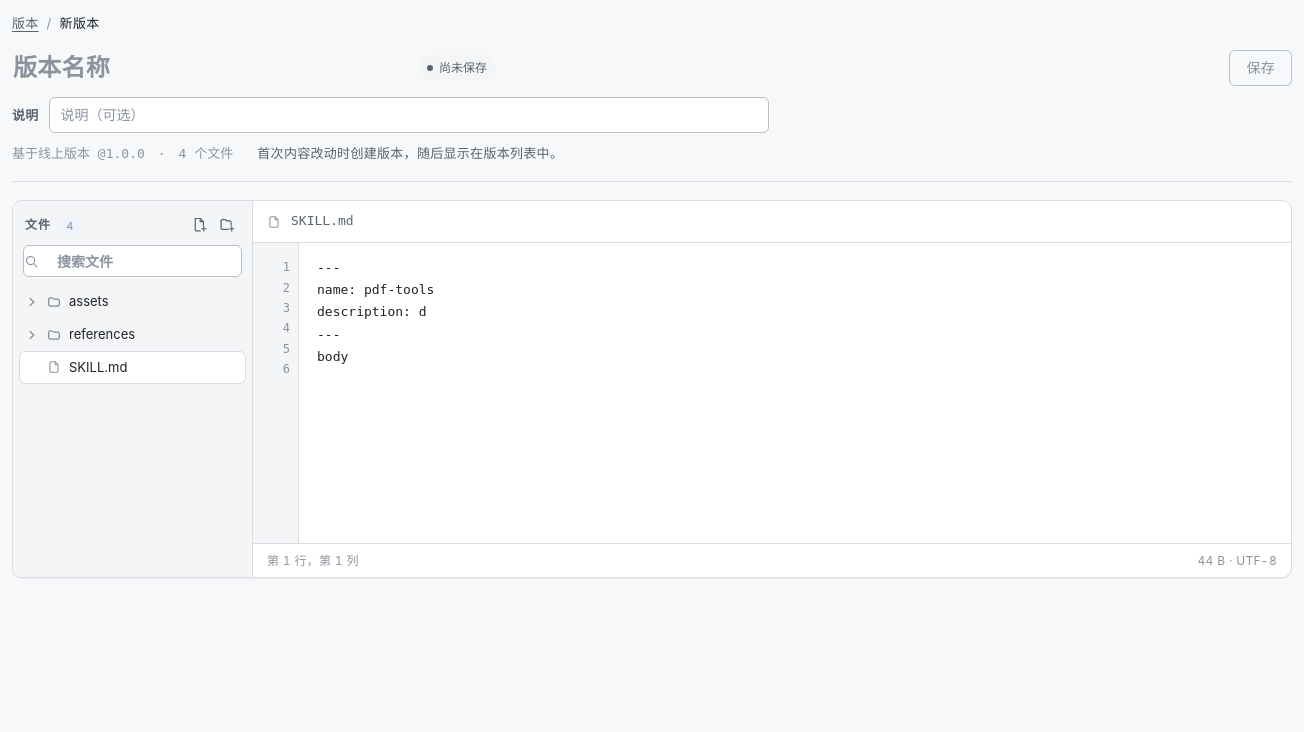
Test case: VersionEditorPage · the new version › refuses to create anything before the name is filled in
Click the button with id "edNewFile": (199, 224) x1=186 y1=212 x2=212 y2=238
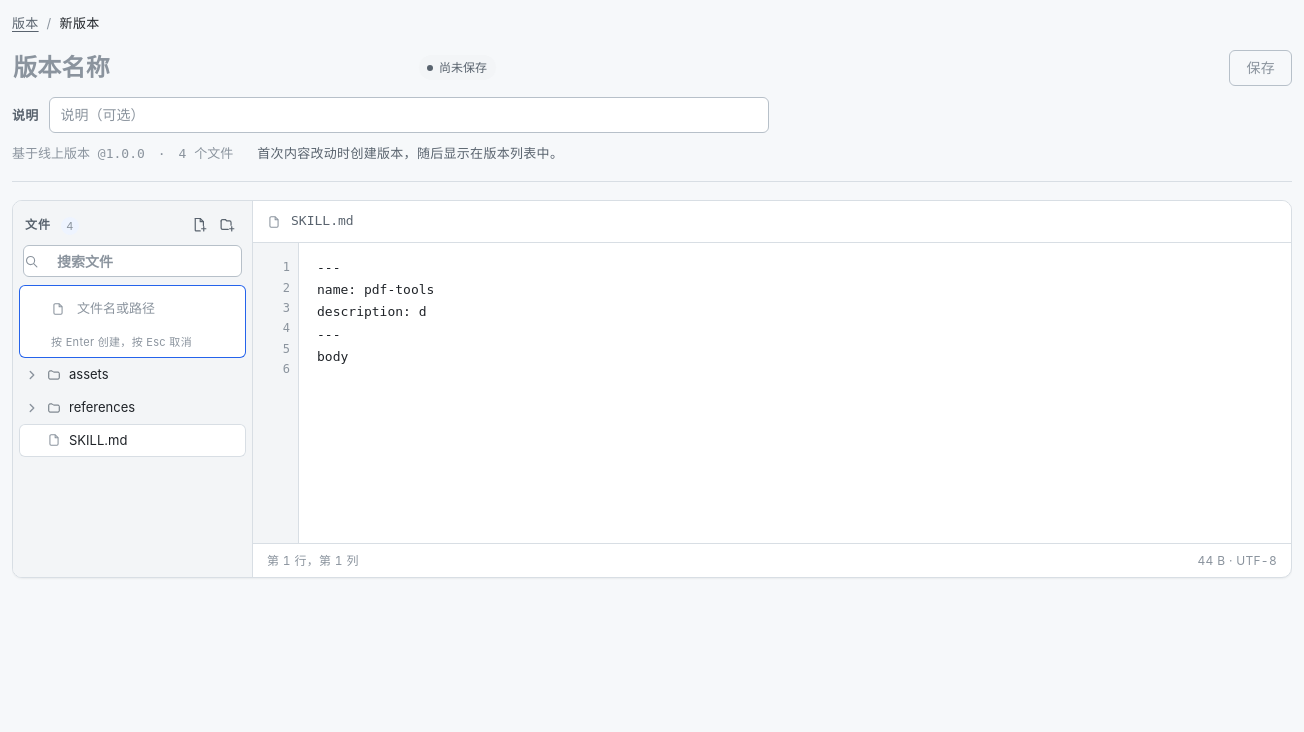
In the field with class "editor-create-input": (154, 309) x1=73 y1=292 x2=234 y2=325, type "references/api.md"
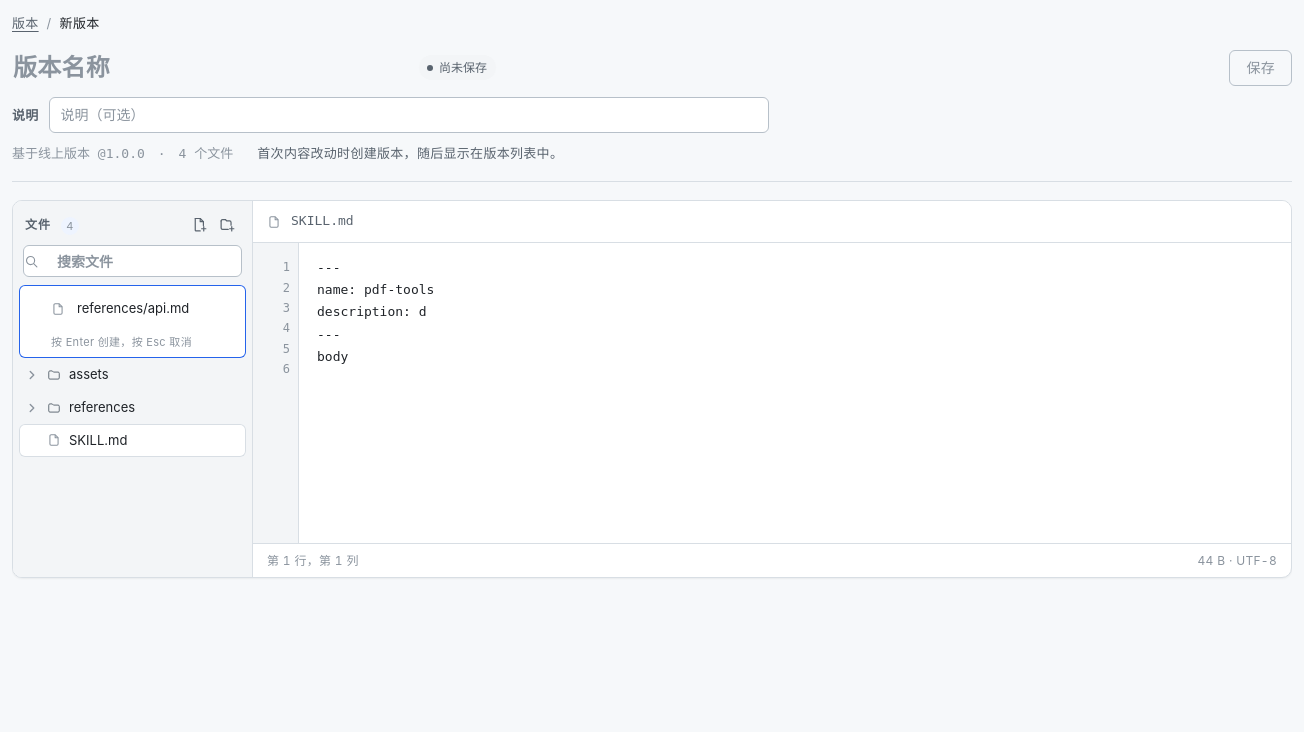
Press Enter in the field with class "editor-create-input", box x1=73 y1=292 x2=234 y2=325
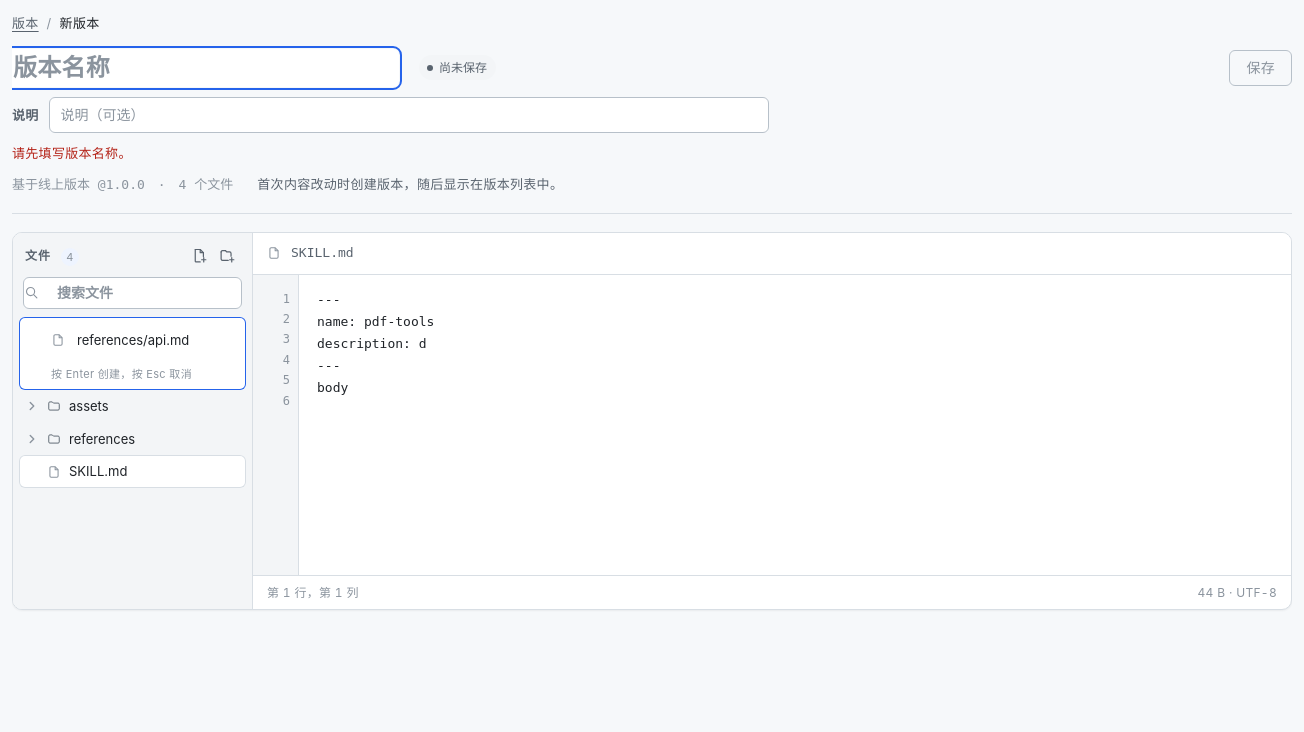
Check: the text with id "edLabelStatus" reads "请先填写版本名称。", box x1=12 y1=145 x2=132 y2=161
